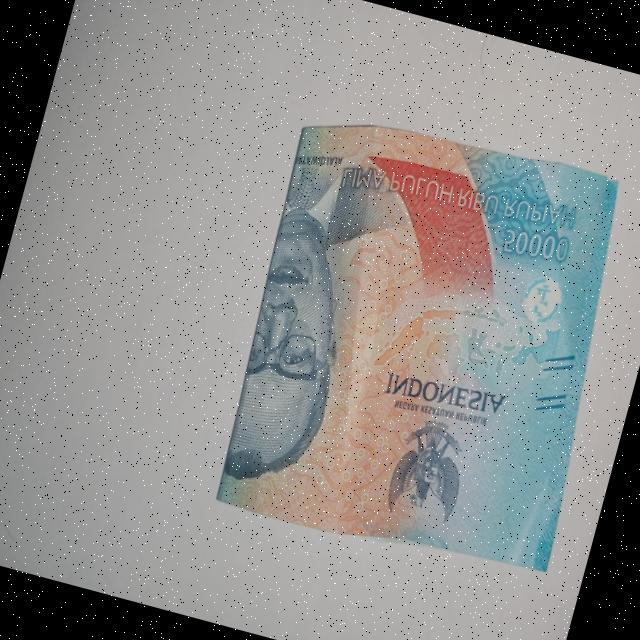50K: (194, 87, 640, 603)
